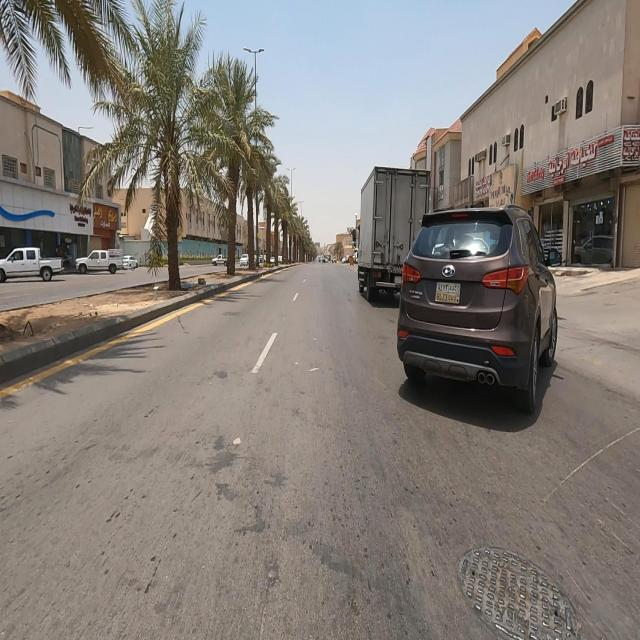debris: (471, 141, 536, 241), (206, 402, 271, 489), (62, 277, 118, 332), (132, 260, 182, 314), (182, 262, 224, 301)
